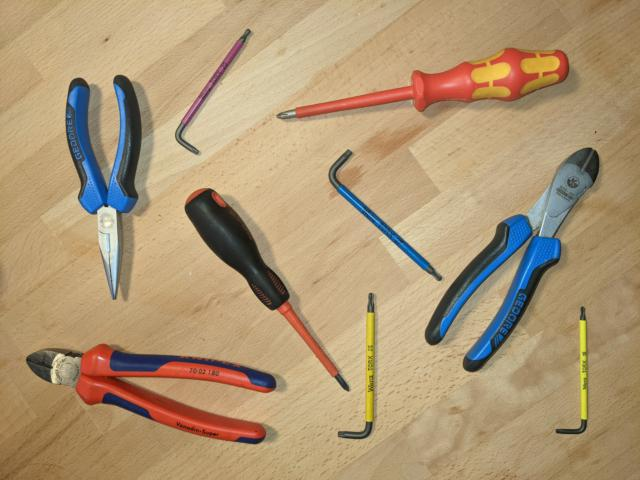Inbusschlüssel: (327, 146, 444, 284), (172, 25, 253, 157), (335, 289, 381, 442), (552, 303, 592, 438)
Schraubendreher: (182, 184, 354, 396), (273, 44, 572, 124)
Seitenschneider: (422, 143, 603, 375), (24, 341, 280, 446)
Zange: (63, 72, 145, 302)
